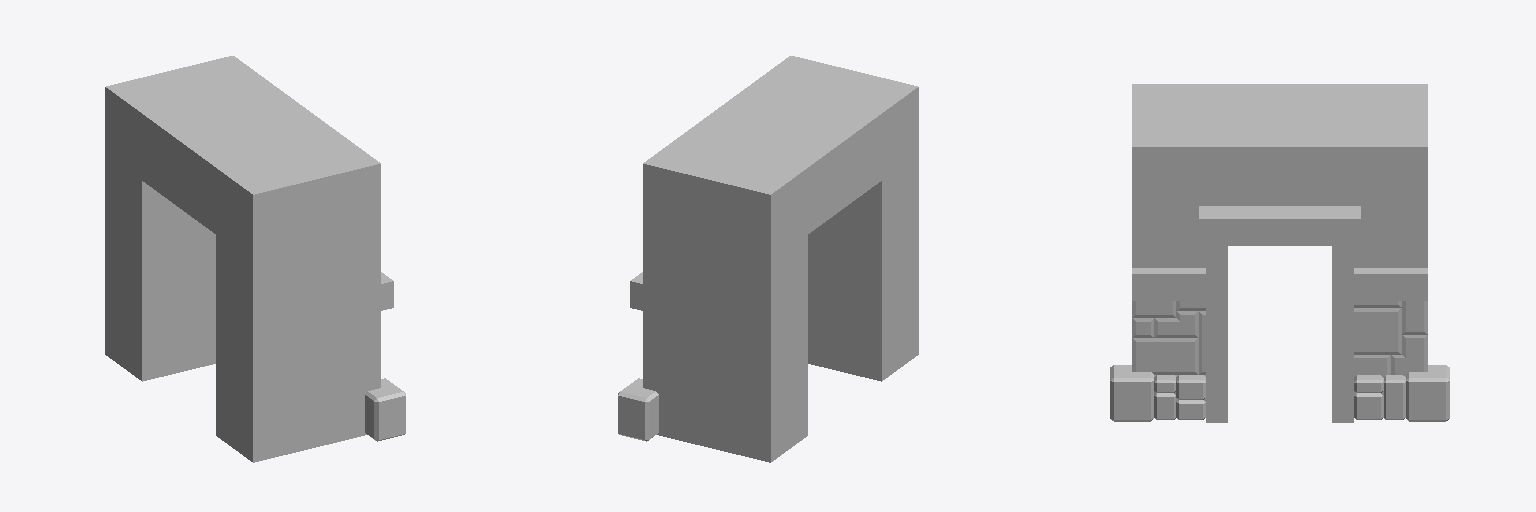
The model's file is doorway.obj.
3 views of the same model, side by side, from view 1: azimuth 30°, elevation 25°; view 2: azimuth 150°, elevation 25°; view 3: azimuth 270°, elevation 25° (orthographic).
Parts seen in each view (by area): view 1: group2 Stone_to_Stucco_Doorway_Wide_Tall_3:object9, Stone_to_Stucco_Doorway_Wide_Tall_3:object3 group2, group2 Stone_to_Stucco_Doorway_Wide_Tall_3:object10, group2 Stone_to_Stucco_Doorway_Wide_Tall_3:object2, group2 Stone_to_Stucco_Doorway_Wide_Tall_3:object4; view 2: group2 Stone_to_Stucco_Doorway_Wide_Tall_3:object9, group2 Stone_to_Stucco_Doorway_Wide_Tall_3:object10, Stone_to_Stucco_Doorway_Wide_Tall_3:object3 group2, group2 Stone_to_Stucco_Doorway_Wide_Tall_3:object7, group2 Stone_to_Stucco_Doorway_Wide_Tall_3:object6; view 3: group2 Stone_to_Stucco_Doorway_Wide_Tall_3:object9, group2 Stone_to_Stucco_Doorway_Wide_Tall_3:object1, group2 Stone_to_Stucco_Doorway_Wide_Tall_3:object10, Stone_to_Stucco_Doorway_Wide_Tall_3:object3 group2, group2 Stone_to_Stucco_Doorway_Wide_Tall_3:object6, group2 Stone_to_Stucco_Doorway_Wide_Tall_3:object4, group2 Stone_to_Stucco_Doorway_Wide_Tall_3:object2, group2 Stone_to_Stucco_Doorway_Wide_Tall_3:object7, group2 Stone_to_Stucco_Doorway_Wide_Tall_3:object8, group2 Stone_to_Stucco_Doorway_Wide_Tall_3:object5.
Boxes of the visible parts, box(x1,y1,x2,y2) form: group2 Stone_to_Stucco_Doorway_Wide_Tall_3:object9: box(105, 56, 380, 328); Stone_to_Stucco_Doorway_Wide_Tall_3:object3 group2: box(216, 298, 380, 462); group2 Stone_to_Stucco_Doorway_Wide_Tall_3:object10: box(105, 221, 215, 381); group2 Stone_to_Stucco_Doorway_Wide_Tall_3:object2: box(365, 378, 405, 441); group2 Stone_to_Stucco_Doorway_Wide_Tall_3:object4: box(368, 272, 393, 313); group2 Stone_to_Stucco_Doorway_Wide_Tall_3:object9: box(643, 56, 918, 328); group2 Stone_to_Stucco_Doorway_Wide_Tall_3:object10: box(643, 300, 807, 462); Stone_to_Stucco_Doorway_Wide_Tall_3:object3 group2: box(808, 221, 918, 381); group2 Stone_to_Stucco_Doorway_Wide_Tall_3:object7: box(618, 378, 658, 441); group2 Stone_to_Stucco_Doorway_Wide_Tall_3:object6: box(630, 272, 655, 313); group2 Stone_to_Stucco_Doorway_Wide_Tall_3:object9: box(1132, 84, 1427, 267); group2 Stone_to_Stucco_Doorway_Wide_Tall_3:object1: box(1199, 206, 1360, 422); group2 Stone_to_Stucco_Doorway_Wide_Tall_3:object10: box(1354, 301, 1427, 377); Stone_to_Stucco_Doorway_Wide_Tall_3:object3 group2: box(1132, 301, 1205, 376); group2 Stone_to_Stucco_Doorway_Wide_Tall_3:object6: box(1354, 268, 1427, 300); group2 Stone_to_Stucco_Doorway_Wide_Tall_3:object4: box(1132, 268, 1205, 300); group2 Stone_to_Stucco_Doorway_Wide_Tall_3:object2: box(1110, 365, 1153, 421); group2 Stone_to_Stucco_Doorway_Wide_Tall_3:object7: box(1406, 365, 1449, 421); group2 Stone_to_Stucco_Doorway_Wide_Tall_3:object8: box(1154, 375, 1205, 419); group2 Stone_to_Stucco_Doorway_Wide_Tall_3:object5: box(1354, 375, 1405, 419).
Size of the model in its own units: 3 by 5 by 5.75.